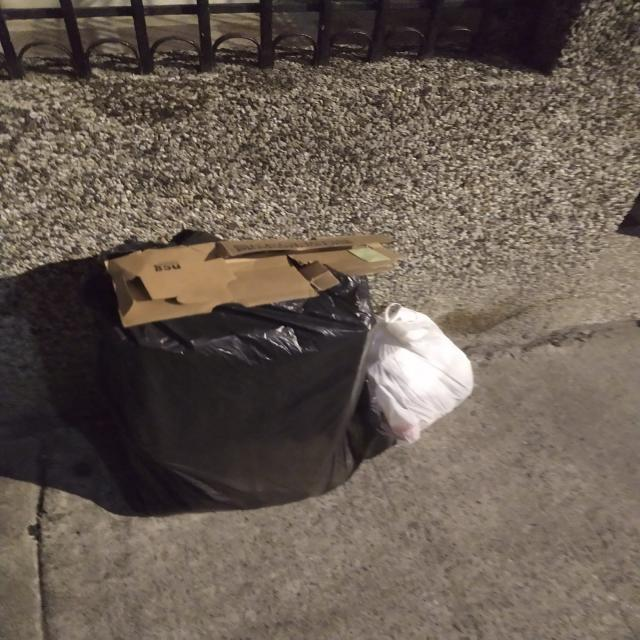high trash: (101, 235, 472, 507)
